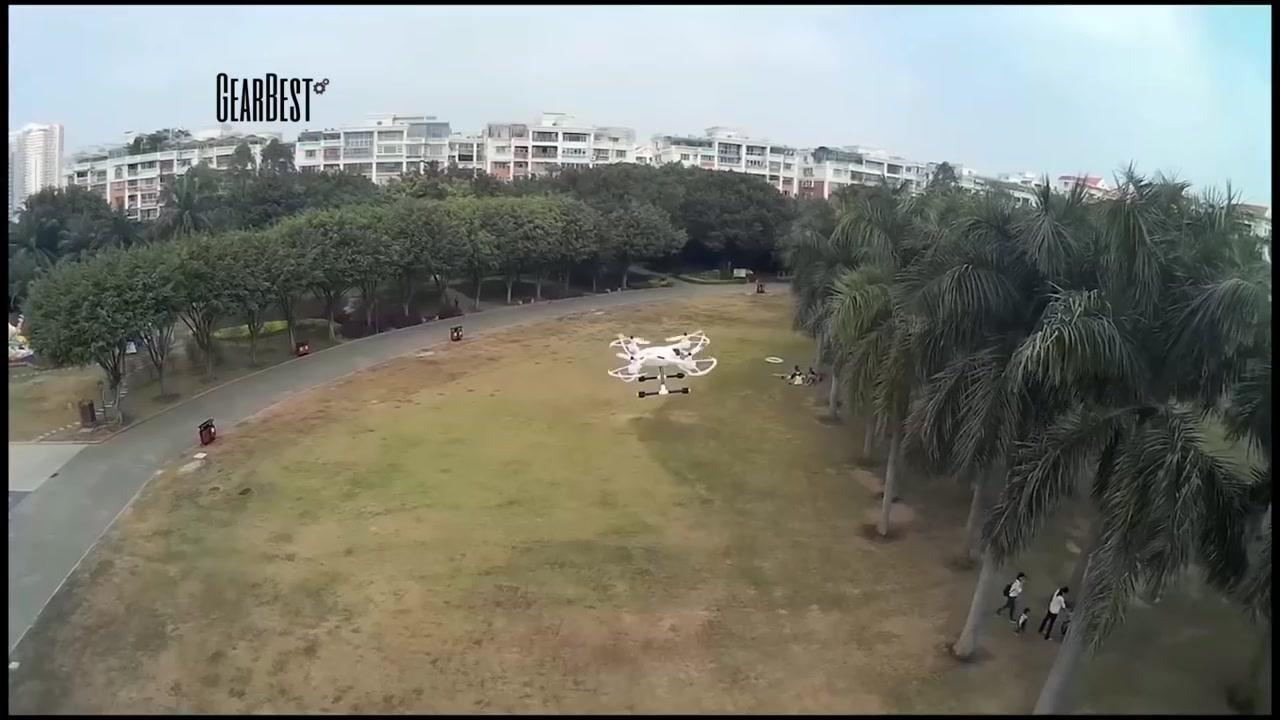UAV: (609, 330, 718, 399)
